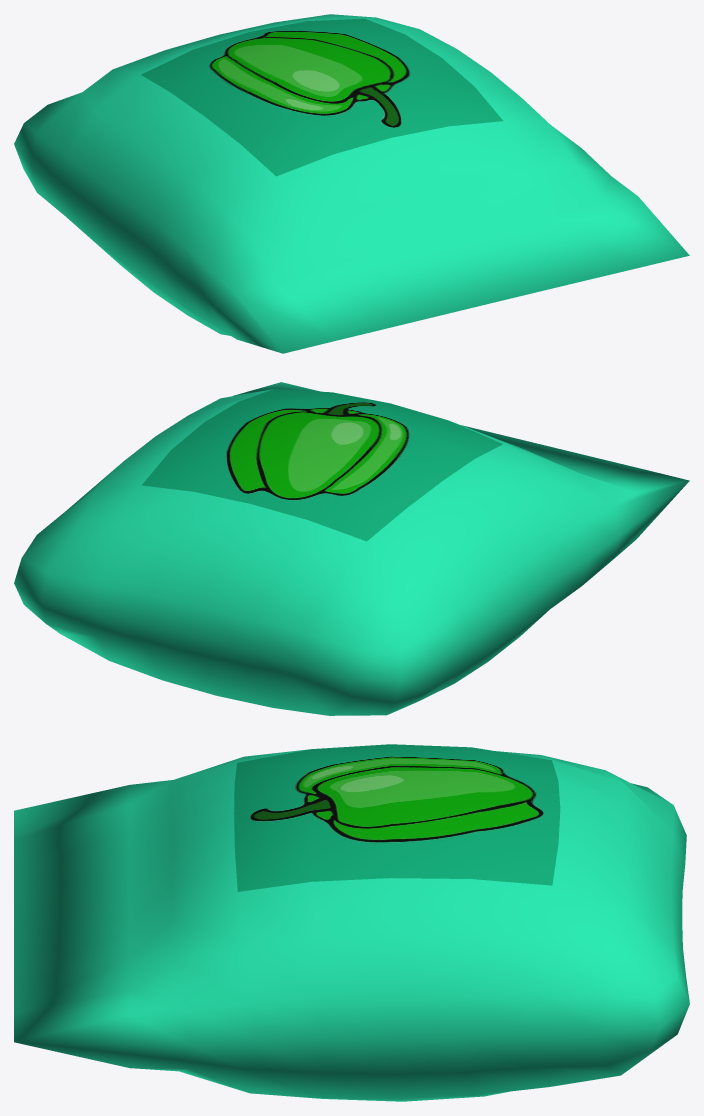
File: paquete de pimiento congelado.fbx
3 views of the same model, one above another, from view 1: azimuth 30°, elevation 25°; view 2: azimuth 150°, elevation 25°; view 3: azimuth 270°, elevation 25° (orthographic). The views are drawn at different scales.
Visible parts, largest first — view 1: PAQUETE DE pimientos picados; view 2: PAQUETE DE pimientos picados; view 3: PAQUETE DE pimientos picados.
Part boxes in pixels (box(x1,y1,x2,y2)): PAQUETE DE pimientos picados: box(14, 14, 689, 353); PAQUETE DE pimientos picados: box(14, 382, 689, 715); PAQUETE DE pimientos picados: box(14, 744, 689, 1101).
Size of the model in its own units: 23.34 by 12.28 by 28.23.
Materials: 2 (1 with a texture image).
